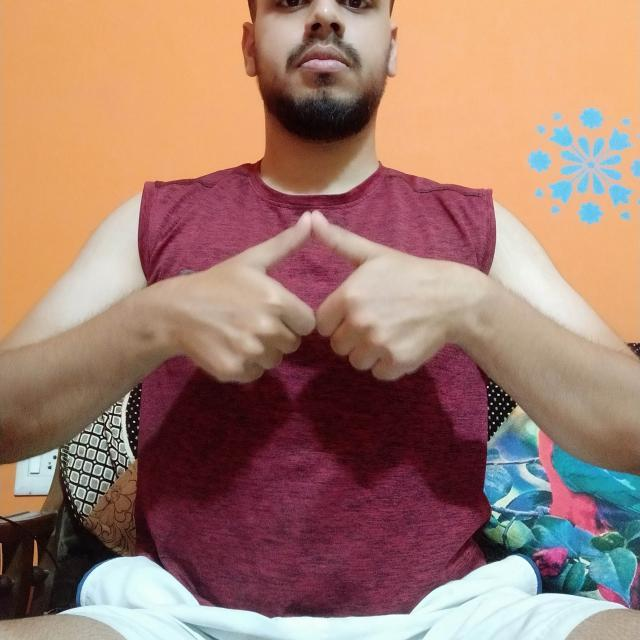A: (184, 201, 475, 389)
